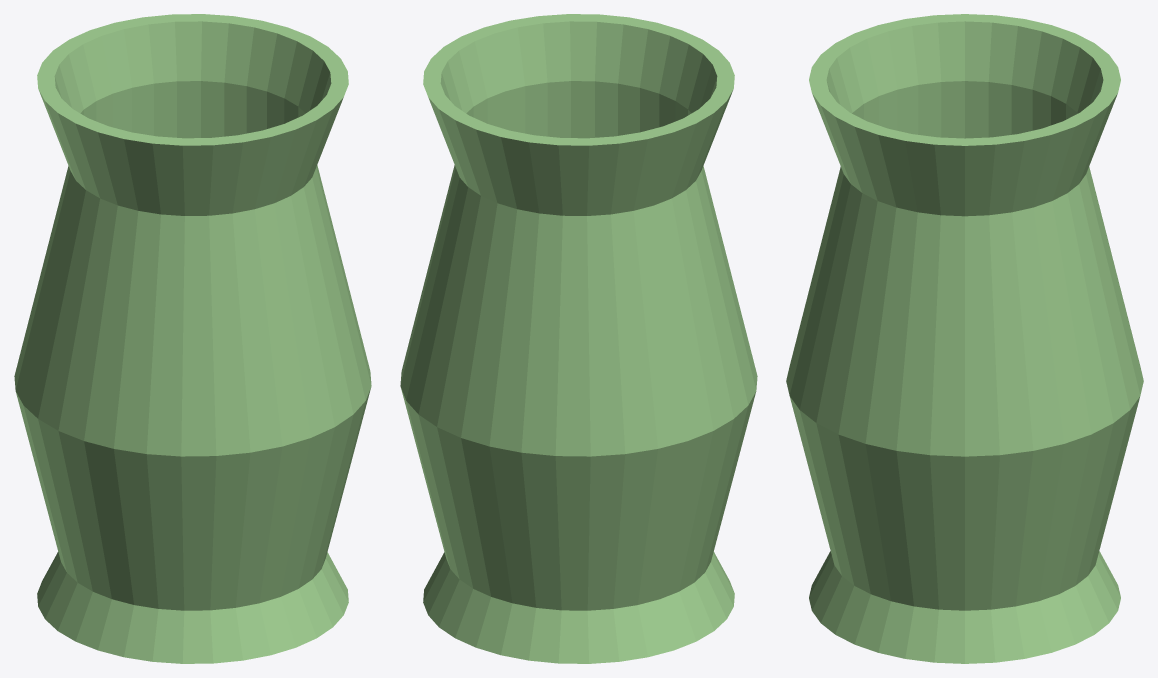
File: Vase.fbx
3 renders of one model, left to right at view 1: azimuth 30°, elevation 25°; view 2: azimuth 150°, elevation 25°; view 3: azimuth 270°, elevation 25°, orthographic.
Visible parts, largest first — view 1: Vase; view 2: Vase; view 3: Vase.
Boxes of the visible parts, x1,y1,x2,y2 form: Vase: (14, 14, 371, 663); Vase: (400, 14, 757, 663); Vase: (786, 14, 1143, 663).
Bounding box in the file's own units: 85.98 × 137 × 85.98.
